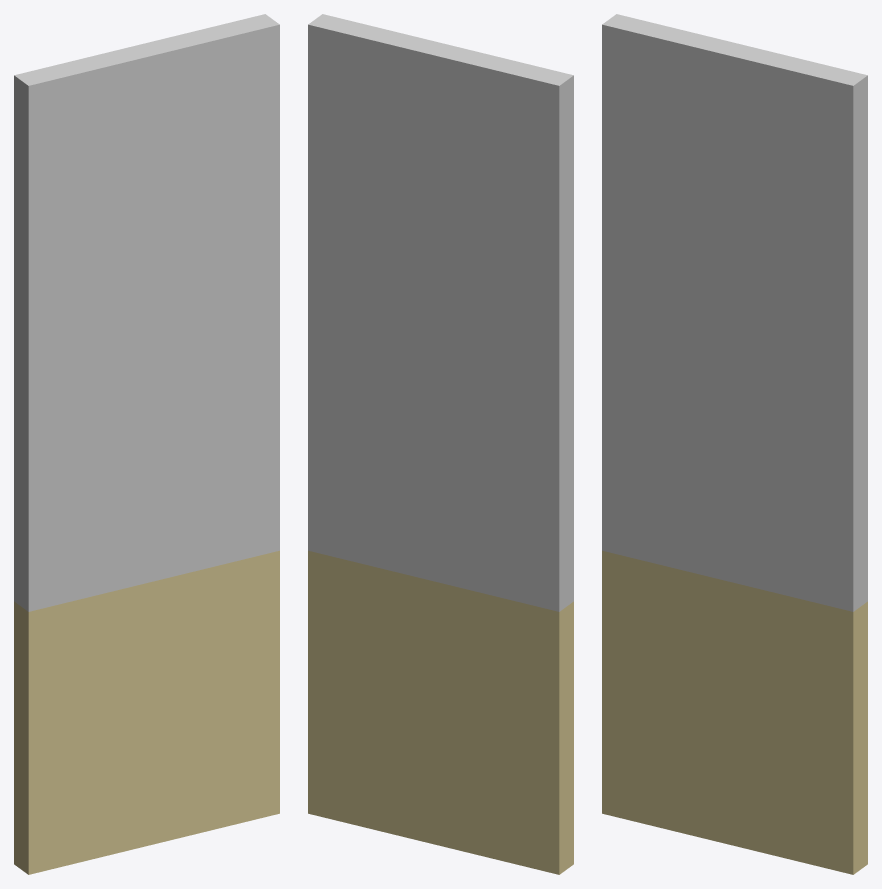
The model's file is Mesh_Wall2Colors_G1.fbx.
3 renders of one model, left to right at view 1: azimuth 30°, elevation 25°; view 2: azimuth 150°, elevation 25°; view 3: azimuth 330°, elevation 25°, orthographic.
Visible parts, largest first — view 1: Mesh_Wall2Colors_G1; view 2: Mesh_Wall2Colors_G1; view 3: Mesh_Wall2Colors_G1.
Part boxes in pixels (box(x1,y1,x2,y2)): Mesh_Wall2Colors_G1: box(14, 14, 279, 874); Mesh_Wall2Colors_G1: box(308, 14, 573, 874); Mesh_Wall2Colors_G1: box(602, 14, 867, 874).
Size of the model in its own units: 1 by 3 by 0.1.
